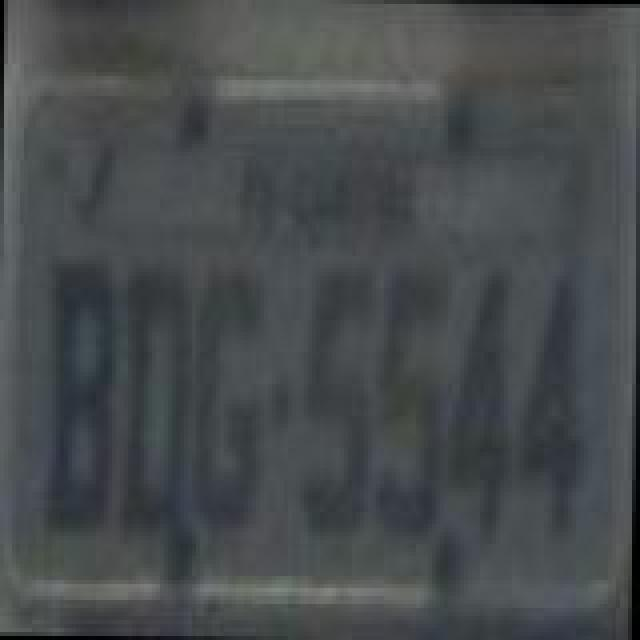4: (514, 268, 590, 540), (450, 266, 518, 538)
5: (298, 260, 382, 540), (372, 258, 452, 546)
B: (44, 260, 124, 548)
D: (118, 266, 194, 546)
G: (188, 258, 268, 538)
